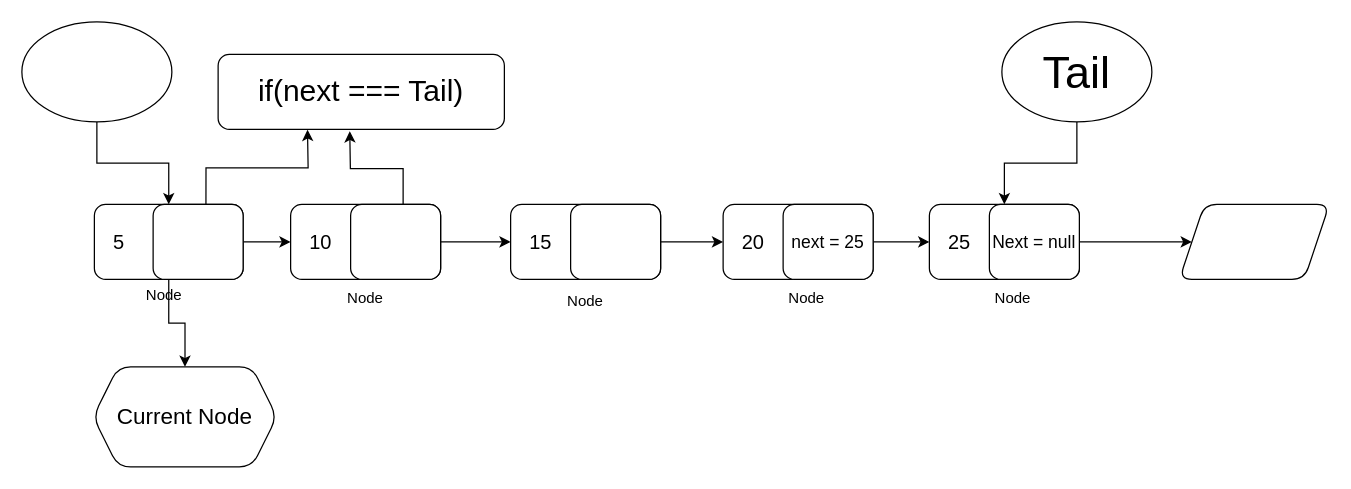
This 1351x489 diagram has some shape labels left out. The shapes that lost their labels are listed below. From the top down, each one's box as (x1, y1, x2, y2) in pixels, then its label:
(21, 21, 172, 122): Head
(152, 203, 243, 279): Next = 10
(349, 203, 441, 279): next = 15
(569, 203, 661, 279): Next = 20
(1178, 203, 1329, 279): Null
